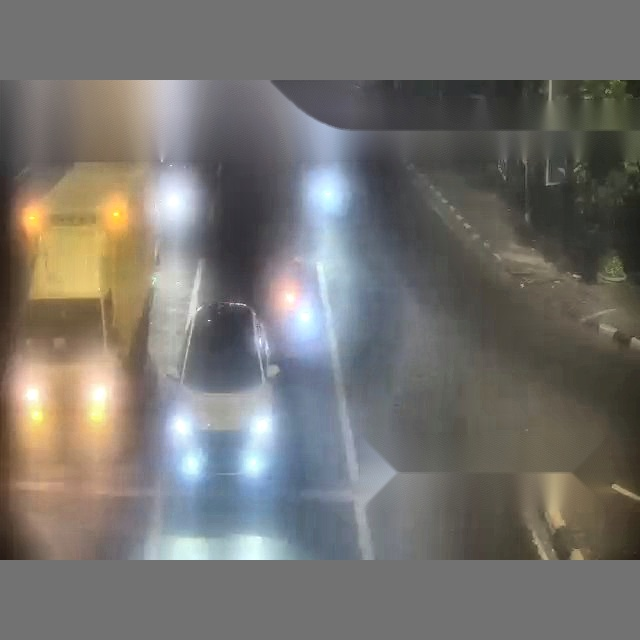Mobil: (157, 302, 276, 472)
Truk: (1, 65, 157, 558)
